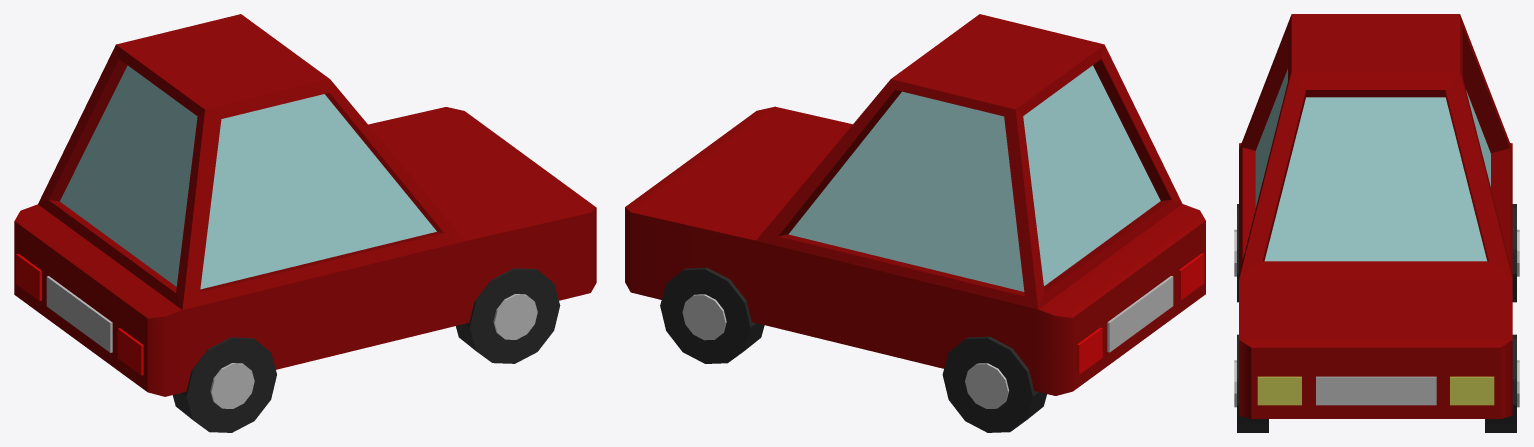
File: Carro1.fbx
The picture shows the model from 3 angles, left to right: view 1: azimuth 30°, elevation 25°; view 2: azimuth 150°, elevation 25°; view 3: azimuth 270°, elevation 25°; orthographic projection. The views are drawn at different scales.
Parts seen in each view (by area): view 1: pCube89; view 2: pCube89; view 3: pCube89.
Boxes of the visible parts, left/top/right/bottom form: pCube89: left=14, top=14, right=596, bottom=432; pCube89: left=625, top=14, right=1205, bottom=432; pCube89: left=1234, top=14, right=1519, bottom=432.
Size of the model in its own units: 3.1 by 1.97 by 1.78.
